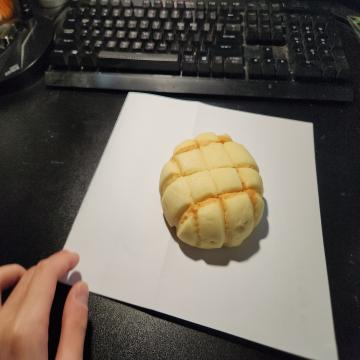melon_bread: (159, 131, 268, 250)
